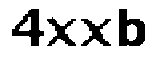4: (9, 6, 46, 48)
b: (116, 5, 147, 51)
x: (46, 15, 78, 50), (80, 16, 112, 50)
